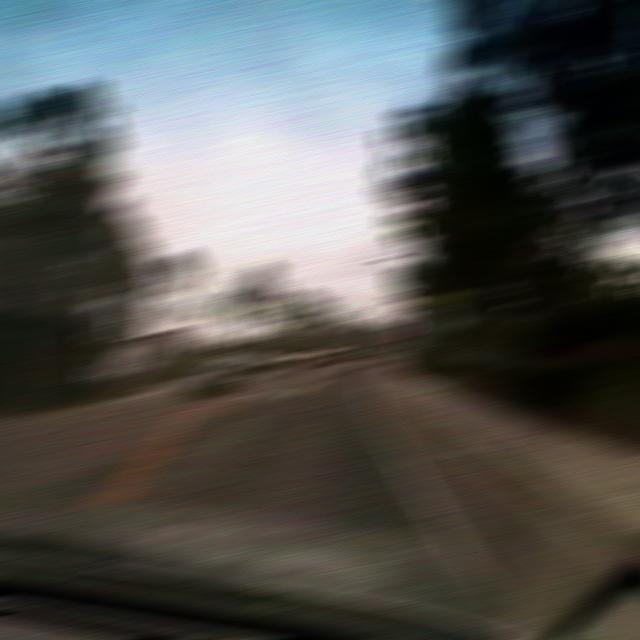speedLimit25: (434, 292, 465, 334)
